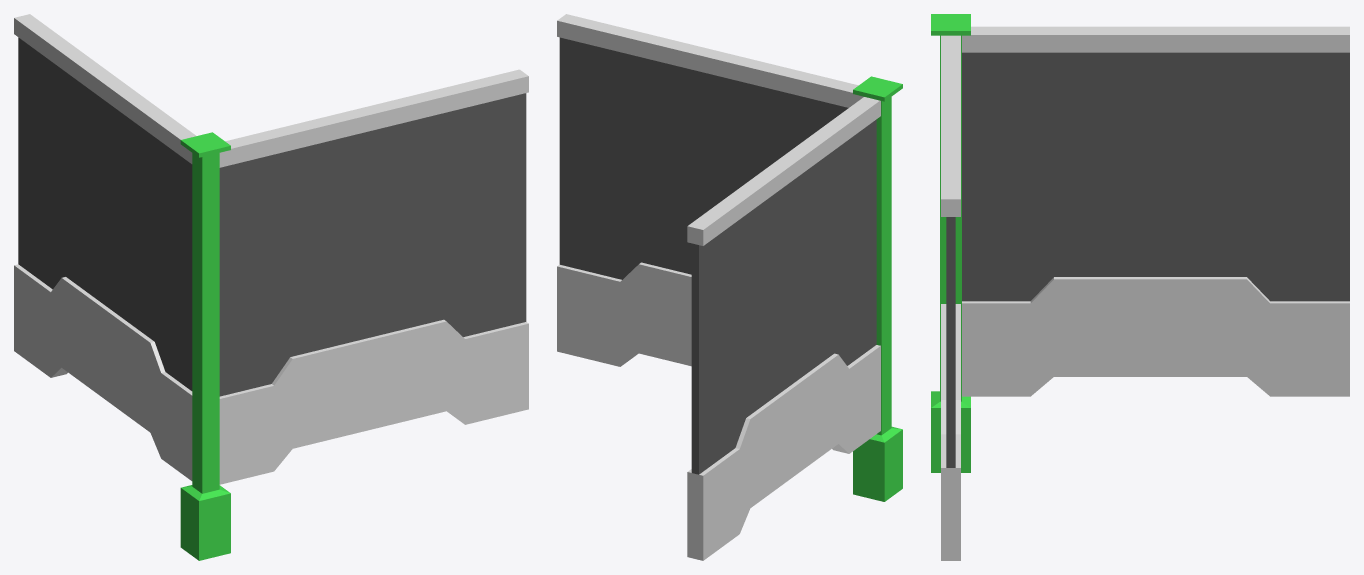
The model's file is FenceElegant00_1x1Corner.fbx.
The picture shows the model from 3 angles, left to right: view 1: azimuth 30°, elevation 25°; view 2: azimuth 150°, elevation 25°; view 3: azimuth 270°, elevation 25°; orthographic projection. The views are drawn at different scales.
Visible parts, largest first — view 1: FenceElegant00_1x1Corner; view 2: FenceElegant00_1x1Corner; view 3: FenceElegant00_1x1Corner.
Boxes of the visible parts, box(x1,y1,x2,y2) form: FenceElegant00_1x1Corner: box(14, 14, 528, 560); FenceElegant00_1x1Corner: box(557, 14, 902, 560); FenceElegant00_1x1Corner: box(931, 14, 1349, 560).
Bounding box in the file's own units: 105 × 122 × 105.
